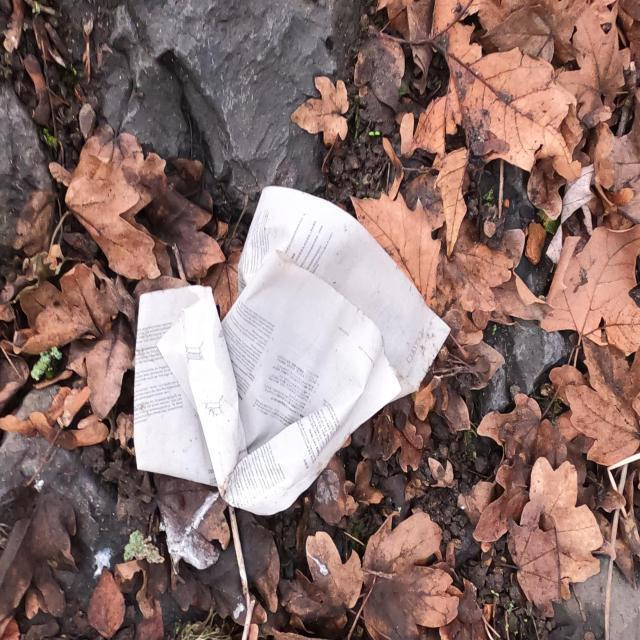Paper: (186, 118, 510, 459)
